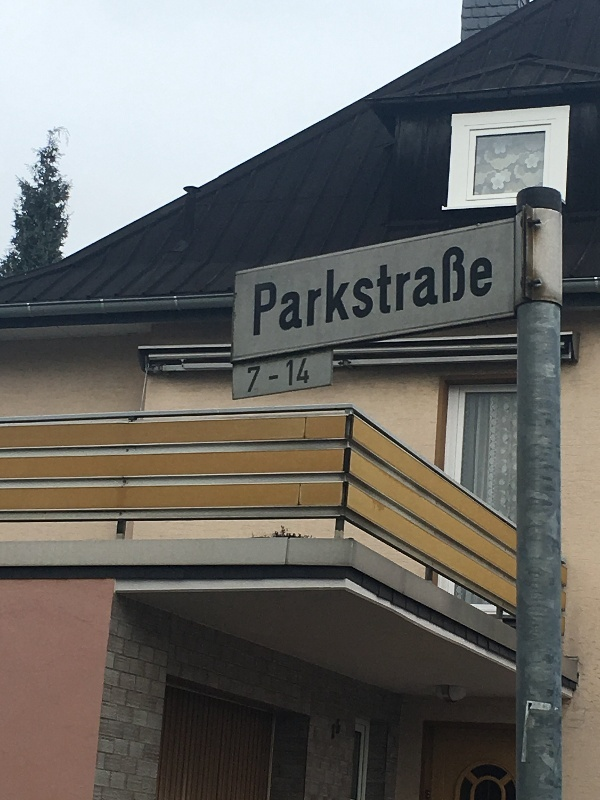text: (257, 240, 272, 337), (273, 240, 288, 337), (289, 240, 304, 337), (305, 240, 320, 337), (321, 240, 336, 337), (337, 240, 352, 337), (353, 240, 368, 337), (369, 240, 384, 337), (385, 240, 400, 337), (401, 240, 416, 337), (417, 240, 432, 337), (433, 240, 448, 337), (449, 240, 464, 337), (465, 240, 480, 337), (481, 240, 493, 337), (257, 357, 272, 393), (273, 357, 288, 393), (289, 357, 304, 393), (248, 357, 256, 393), (305, 357, 309, 393), (255, 240, 256, 337)
